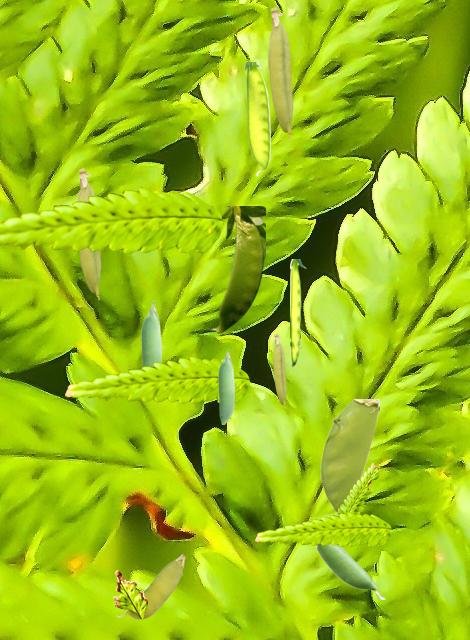pea: (210, 206, 264, 332), (320, 399, 378, 514), (116, 554, 184, 618), (314, 544, 384, 598), (268, 6, 292, 138), (76, 167, 100, 299), (245, 62, 269, 175), (290, 259, 305, 365), (141, 300, 160, 365), (218, 349, 233, 423), (273, 333, 285, 407)
